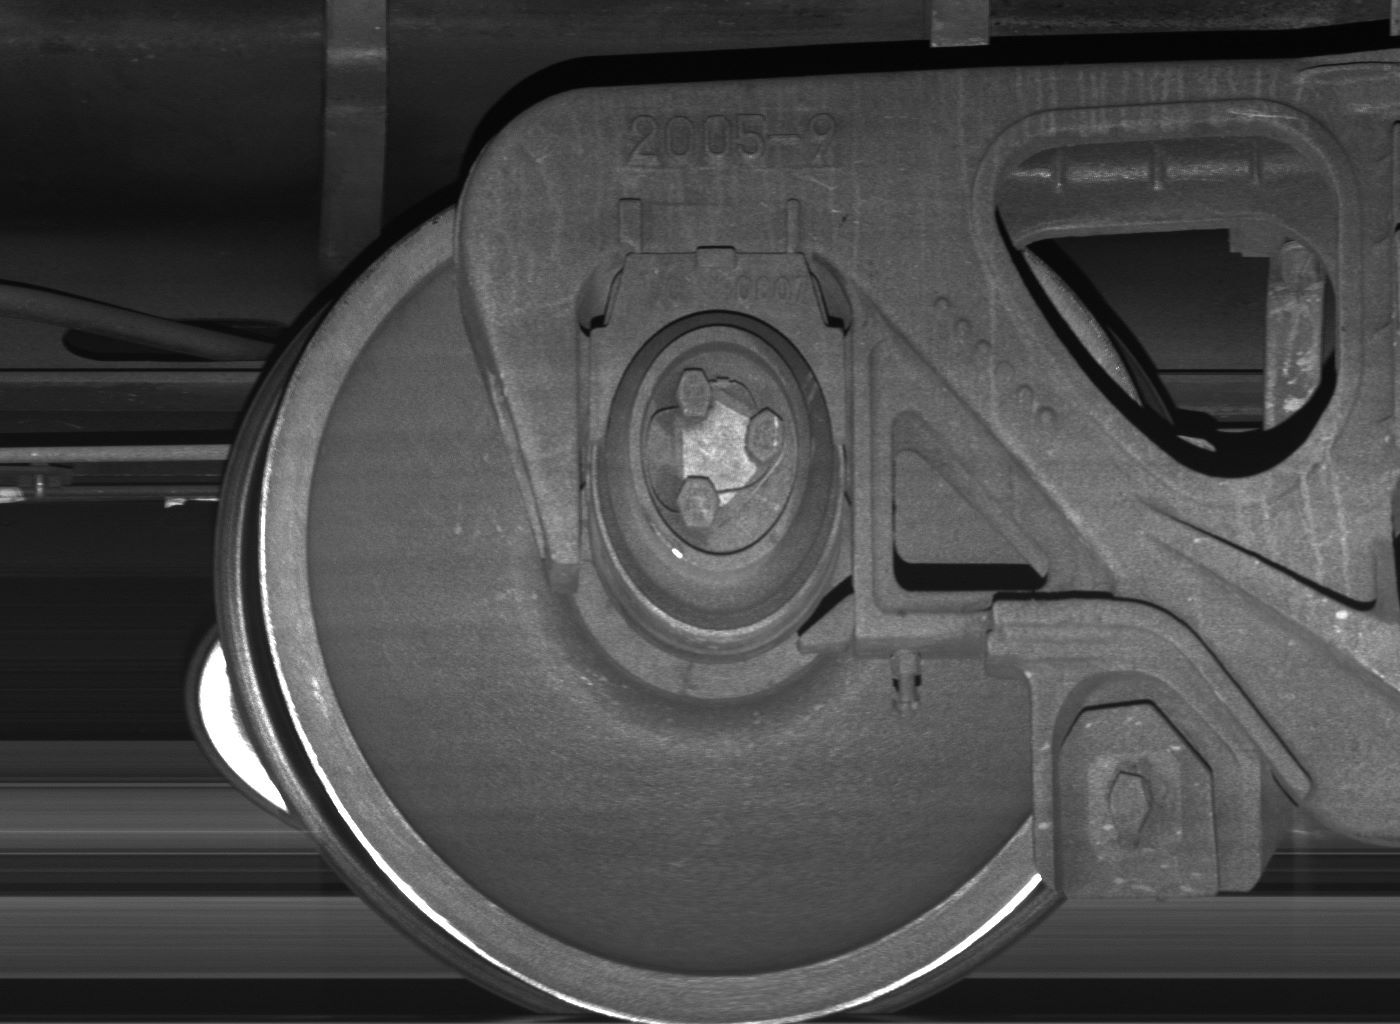normal: (1030, 670, 1240, 896)
